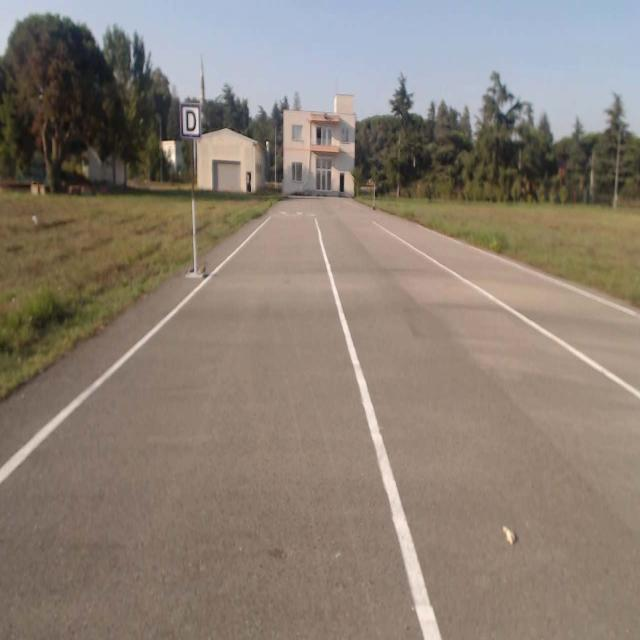durak: (180, 103, 200, 138)
